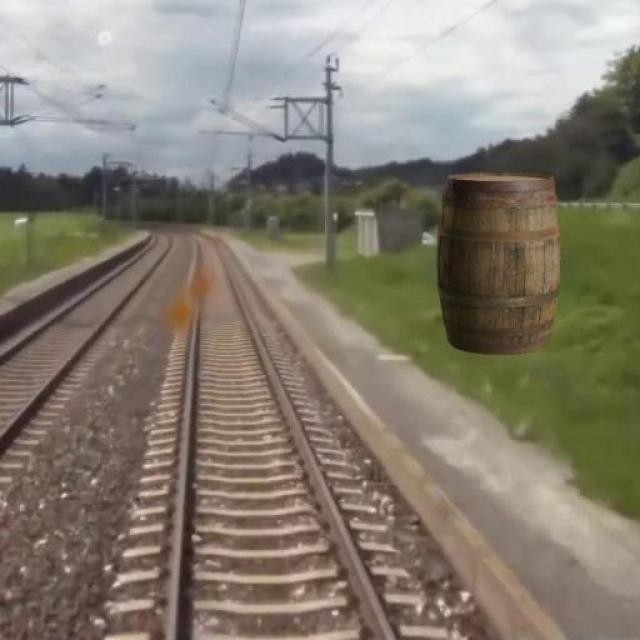Other_objects: (436, 164, 564, 363)
